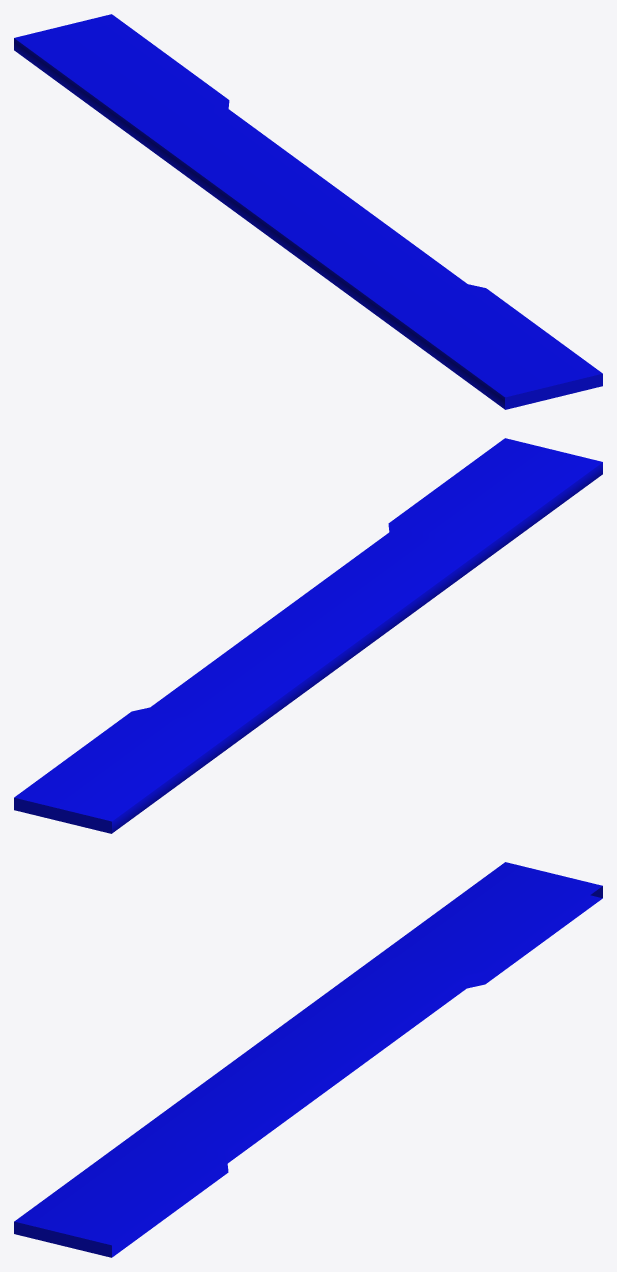
File: WDesk_Standard.FBX
3 views of the same model, one above another, from view 1: azimuth 30°, elevation 25°; view 2: azimuth 150°, elevation 25°; view 3: azimuth 330°, elevation 25° (orthographic).
Visible parts, largest first — view 1: WDesk_Standard; view 2: WDesk_Standard; view 3: WDesk_Standard.
Part boxes in pixels (box(x1,y1,x2,y2)): WDesk_Standard: box(14, 14, 602, 409); WDesk_Standard: box(14, 438, 602, 833); WDesk_Standard: box(14, 862, 602, 1257).
Bounding box in the file's own units: 22.64 × 2.77 × 197.
